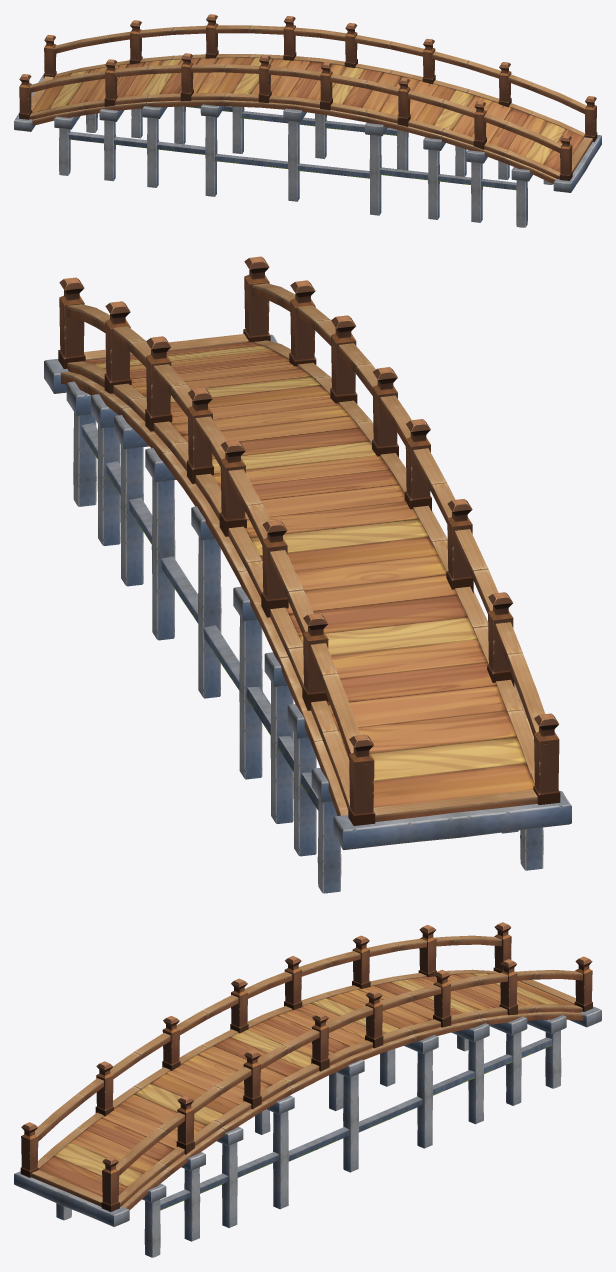
File: CBS_ground_bridge_2.FBX
The picture shows the model from 3 angles, top to bottom: view 1: azimuth 30°, elevation 25°; view 2: azimuth 150°, elevation 25°; view 3: azimuth 270°, elevation 25°; orthographic projection. The views are drawn at different scales.
Visible parts, largest first — view 1: CBS_ground_bridge_2; view 2: CBS_ground_bridge_2; view 3: CBS_ground_bridge_2.
Boxes of the visible parts, <box> form: CBS_ground_bridge_2: <box>14,14,601,227</box>; CBS_ground_bridge_2: <box>44,256,571,893</box>; CBS_ground_bridge_2: <box>14,922,601,1257</box>.
Bounding box in the file's own units: 1273 × 408 × 1273.
